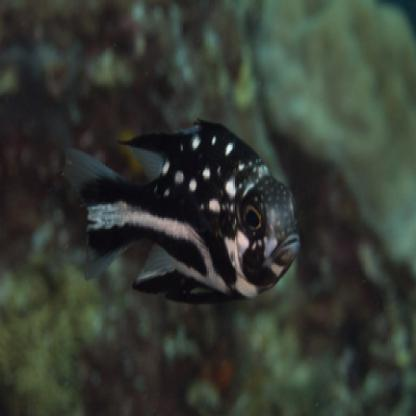snapper: (60, 113, 305, 308)
